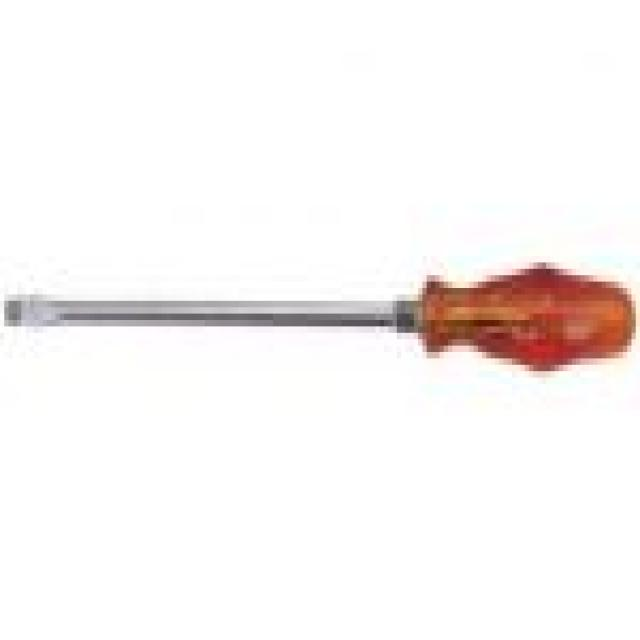screw driver: (0, 206, 640, 399)
